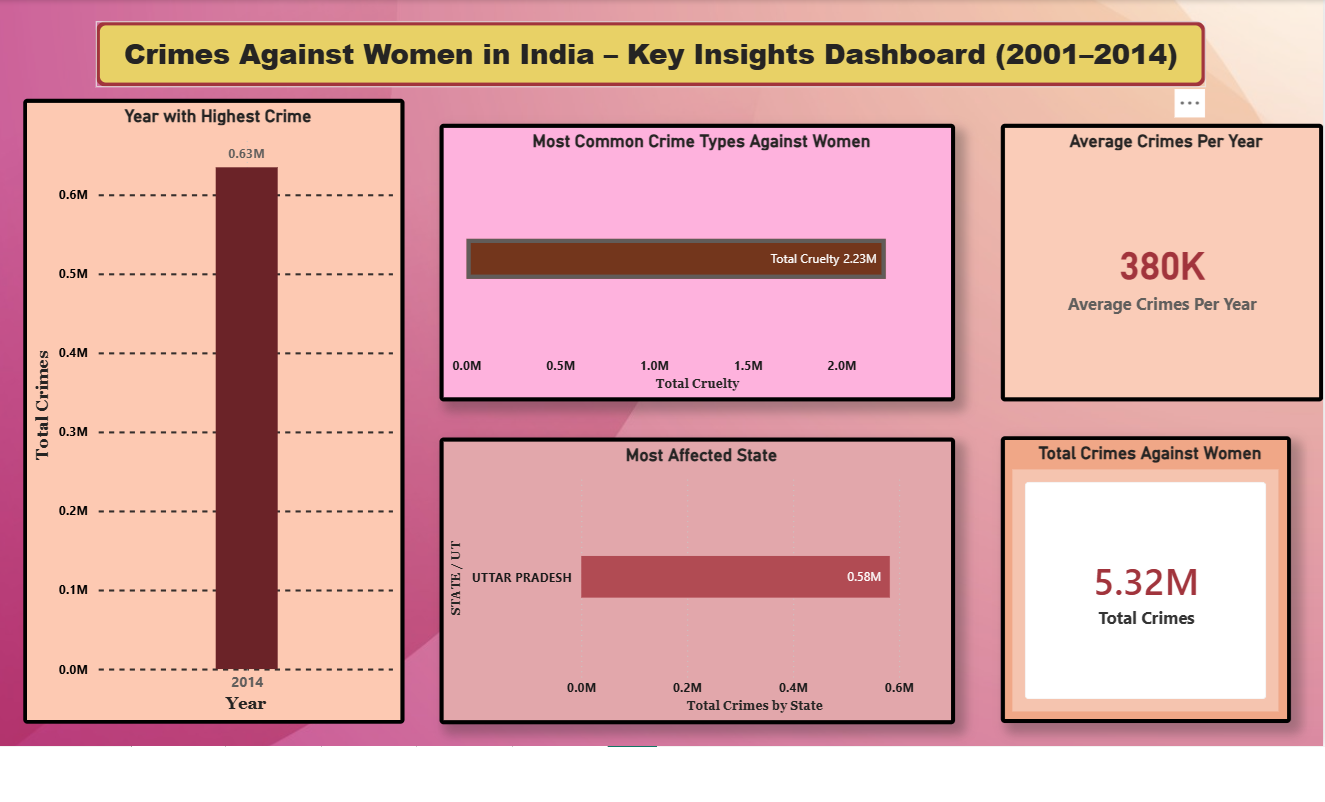

The dashboard page shown, as its layout file describes it:
{"tool":"powerbi","page":{"name":"Page 1","canvas":[1280,720],"ordinal":0},"visuals":[{"type":"cardVisual","title":"Total Crimes Against Women","fields":{"Data":["crimes_against_women_2001-2014.Total crime"]},"box":[968.8,421.3,279.9,277.2],"z":0},{"type":"clusteredBarChart","title":"Most Affected State","fields":{"Category":["crimes_against_women_2001-2014.STATE/UT"],"Y":["crimes_against_women_2001-2014.Total Crimes by State"]},"box":[427.2,421.7,497.7,276.5],"z":1000},{"type":"clusteredColumnChart","title":"Year with Highest Crime","fields":{"Category":["crimes_against_women_2001-2014.Year"],"Y":["crimes_against_women_2001-2014.Total crime"]},"box":[24.9,95.4,367.8,602.8],"z":2000},{"type":"clusteredBarChart","title":"Most Common Crime Types Against Women","fields":{"Y":["crimes_against_women_2001-2014.Total Cruelty"]},"box":[427.2,118.9,497.7,268.2],"z":3000},{"type":"card","title":"Average Crimes Per Year","fields":{"Values":["crimes_against_women_2001-2014.Average Crimes Per Year"]},"box":[969.2,118.9,311.1,268.2],"z":4000},{"type":"textbox","box":[95.4,20.7,1071.5,63.6],"z":5000}]}

Visuals, with their boxes in screenshot pixels (x1, y1, x2, y2):
"Total Crimes Against Women" cardVisual: box=[992, 430, 1278, 713]
"Most Affected State" clusteredBarChart: box=[440, 430, 948, 713]
"Year with Highest Crime" clusteredColumnChart: box=[29, 97, 404, 713]
"Most Common Crime Types Against Women" clusteredBarChart: box=[440, 121, 948, 395]
"Average Crimes Per Year" card: box=[993, 121, 1310, 395]
textbox: box=[101, 21, 1195, 86]
